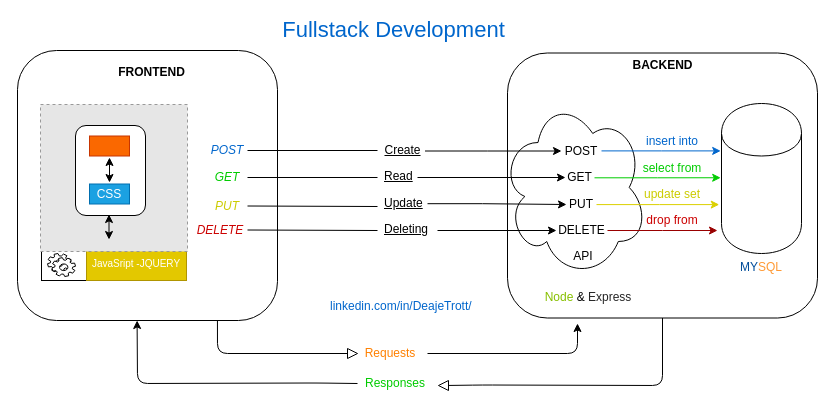
Some shapes in this 835 by 410 pixel diagram are drawn without their labels. Grey dashed boxes stand in for pictures. The shapes that lost their labels are listed below. From the top down, each one's box as (x1, y1, x2, y2) in pixels, then its label:
(88, 135, 130, 156): HTML
(720, 102, 802, 254): DB
